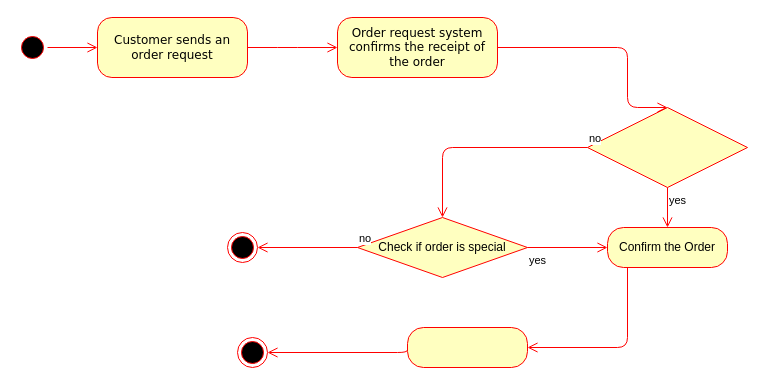
Some shapes in this 765 by 385 pixel diagram are drawn without their labels. Here are the shapes that lost their labels. From the top down, the centre of each, then its label:
At (x=667, y=147): "Check if order is normal".
At (x=467, y=347): "Dispatch the Order".
